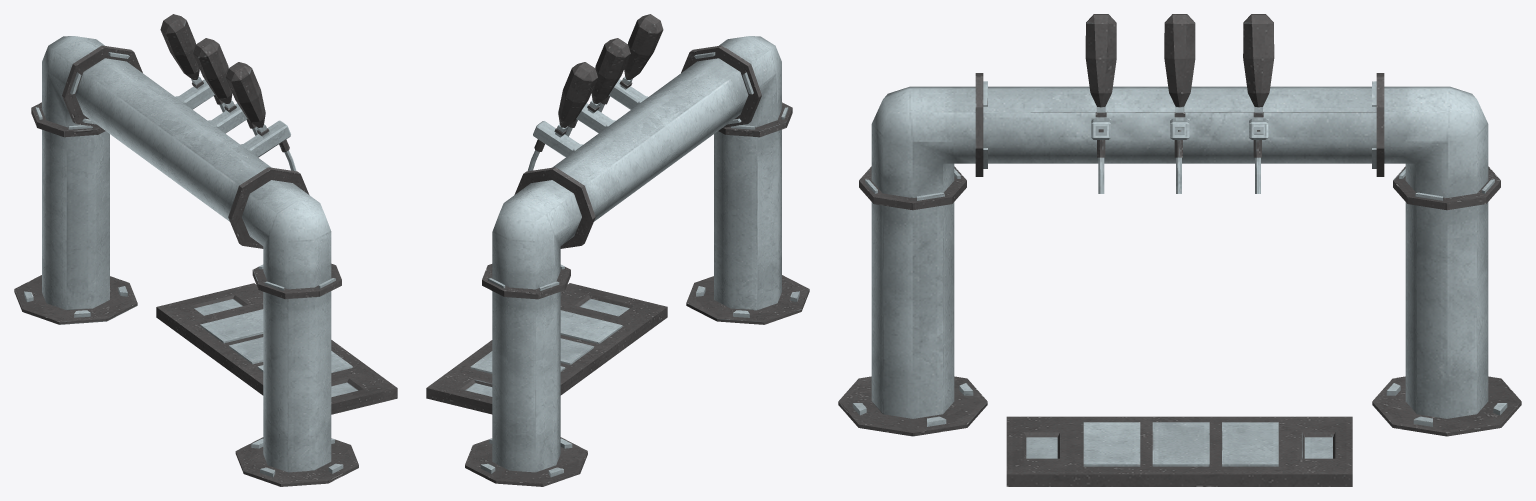
Rendered from Torneira_De_Chopp.fbx.
3 renders of one model, left to right at view 1: azimuth 30°, elevation 25°; view 2: azimuth 150°, elevation 25°; view 3: azimuth 270°, elevation 25°, orthographic. The views are drawn at different scales.
Visible parts, largest first — view 1: Cube; view 2: Cube; view 3: Cube.
Boxes of the visible parts, bbox=[...] form: Cube: bbox=[14, 14, 397, 486]; Cube: bbox=[426, 14, 809, 486]; Cube: bbox=[838, 14, 1521, 486].
Bounding box in the file's own units: 26.81 × 44.43 × 68.24.
